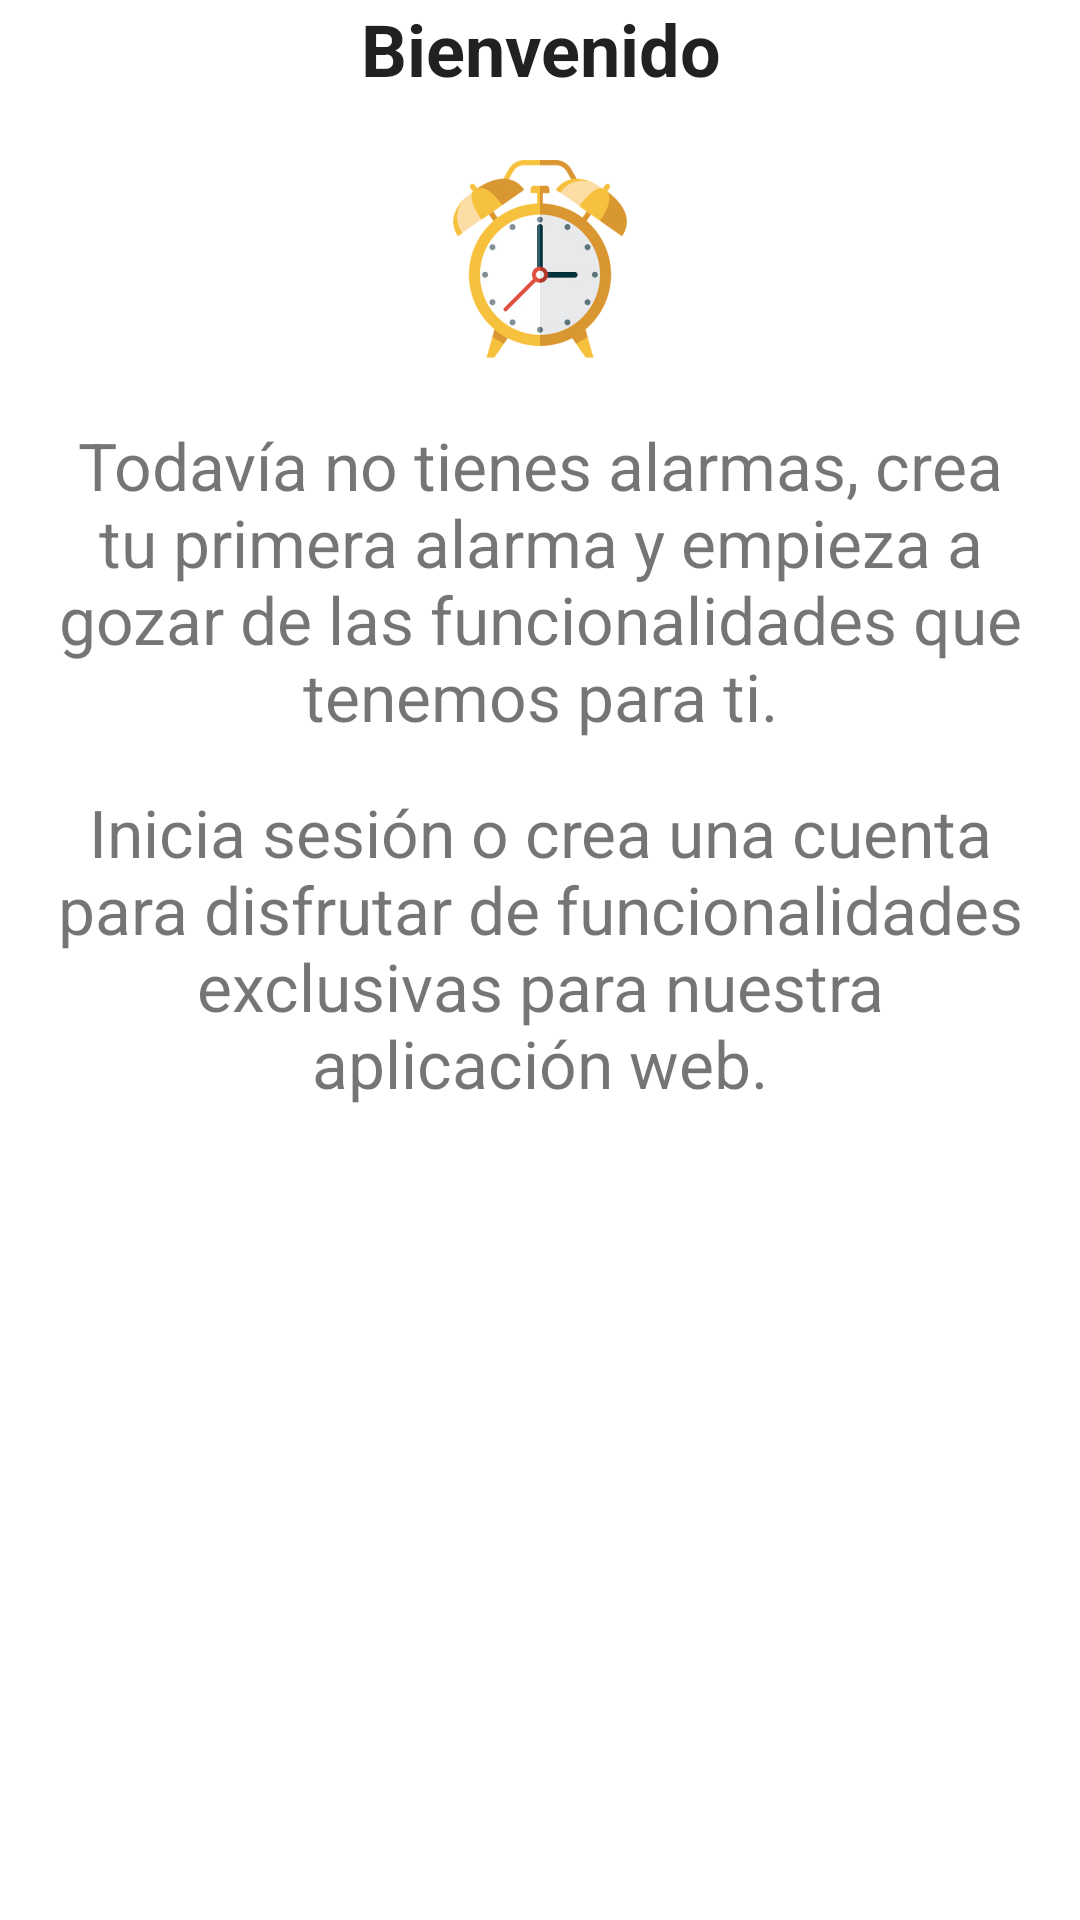

Screen size 1080×1920. Icon name, then its center in pixels as point (x, y):
alarmapp: point (540, 259)
